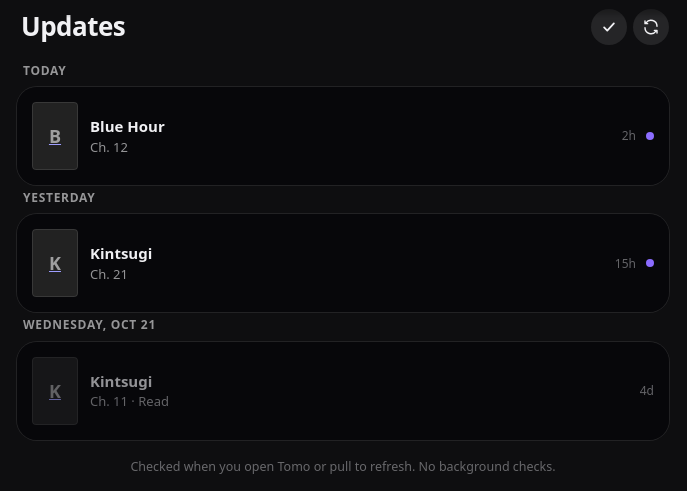
Scenario: marking all as read › clears the badge without marking any chapter read, then disables the button
Click the button named "Mark all updates as read".
click(609, 27)  # box [591,9,627,45]
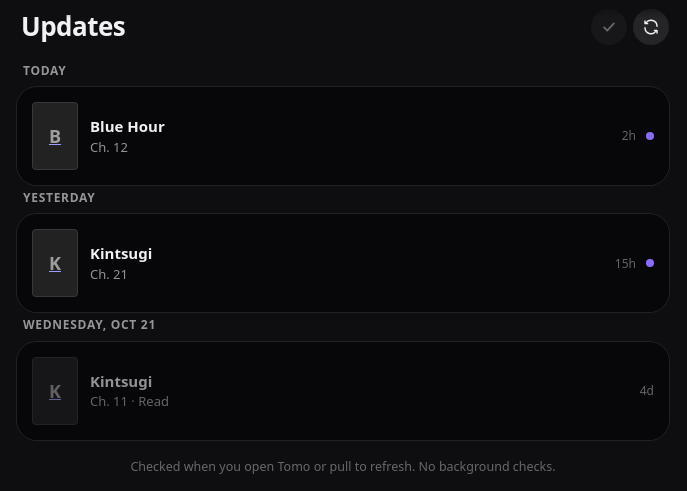
Now the button named "Mark all updates as read" is disabled, box [591,9,627,45]
